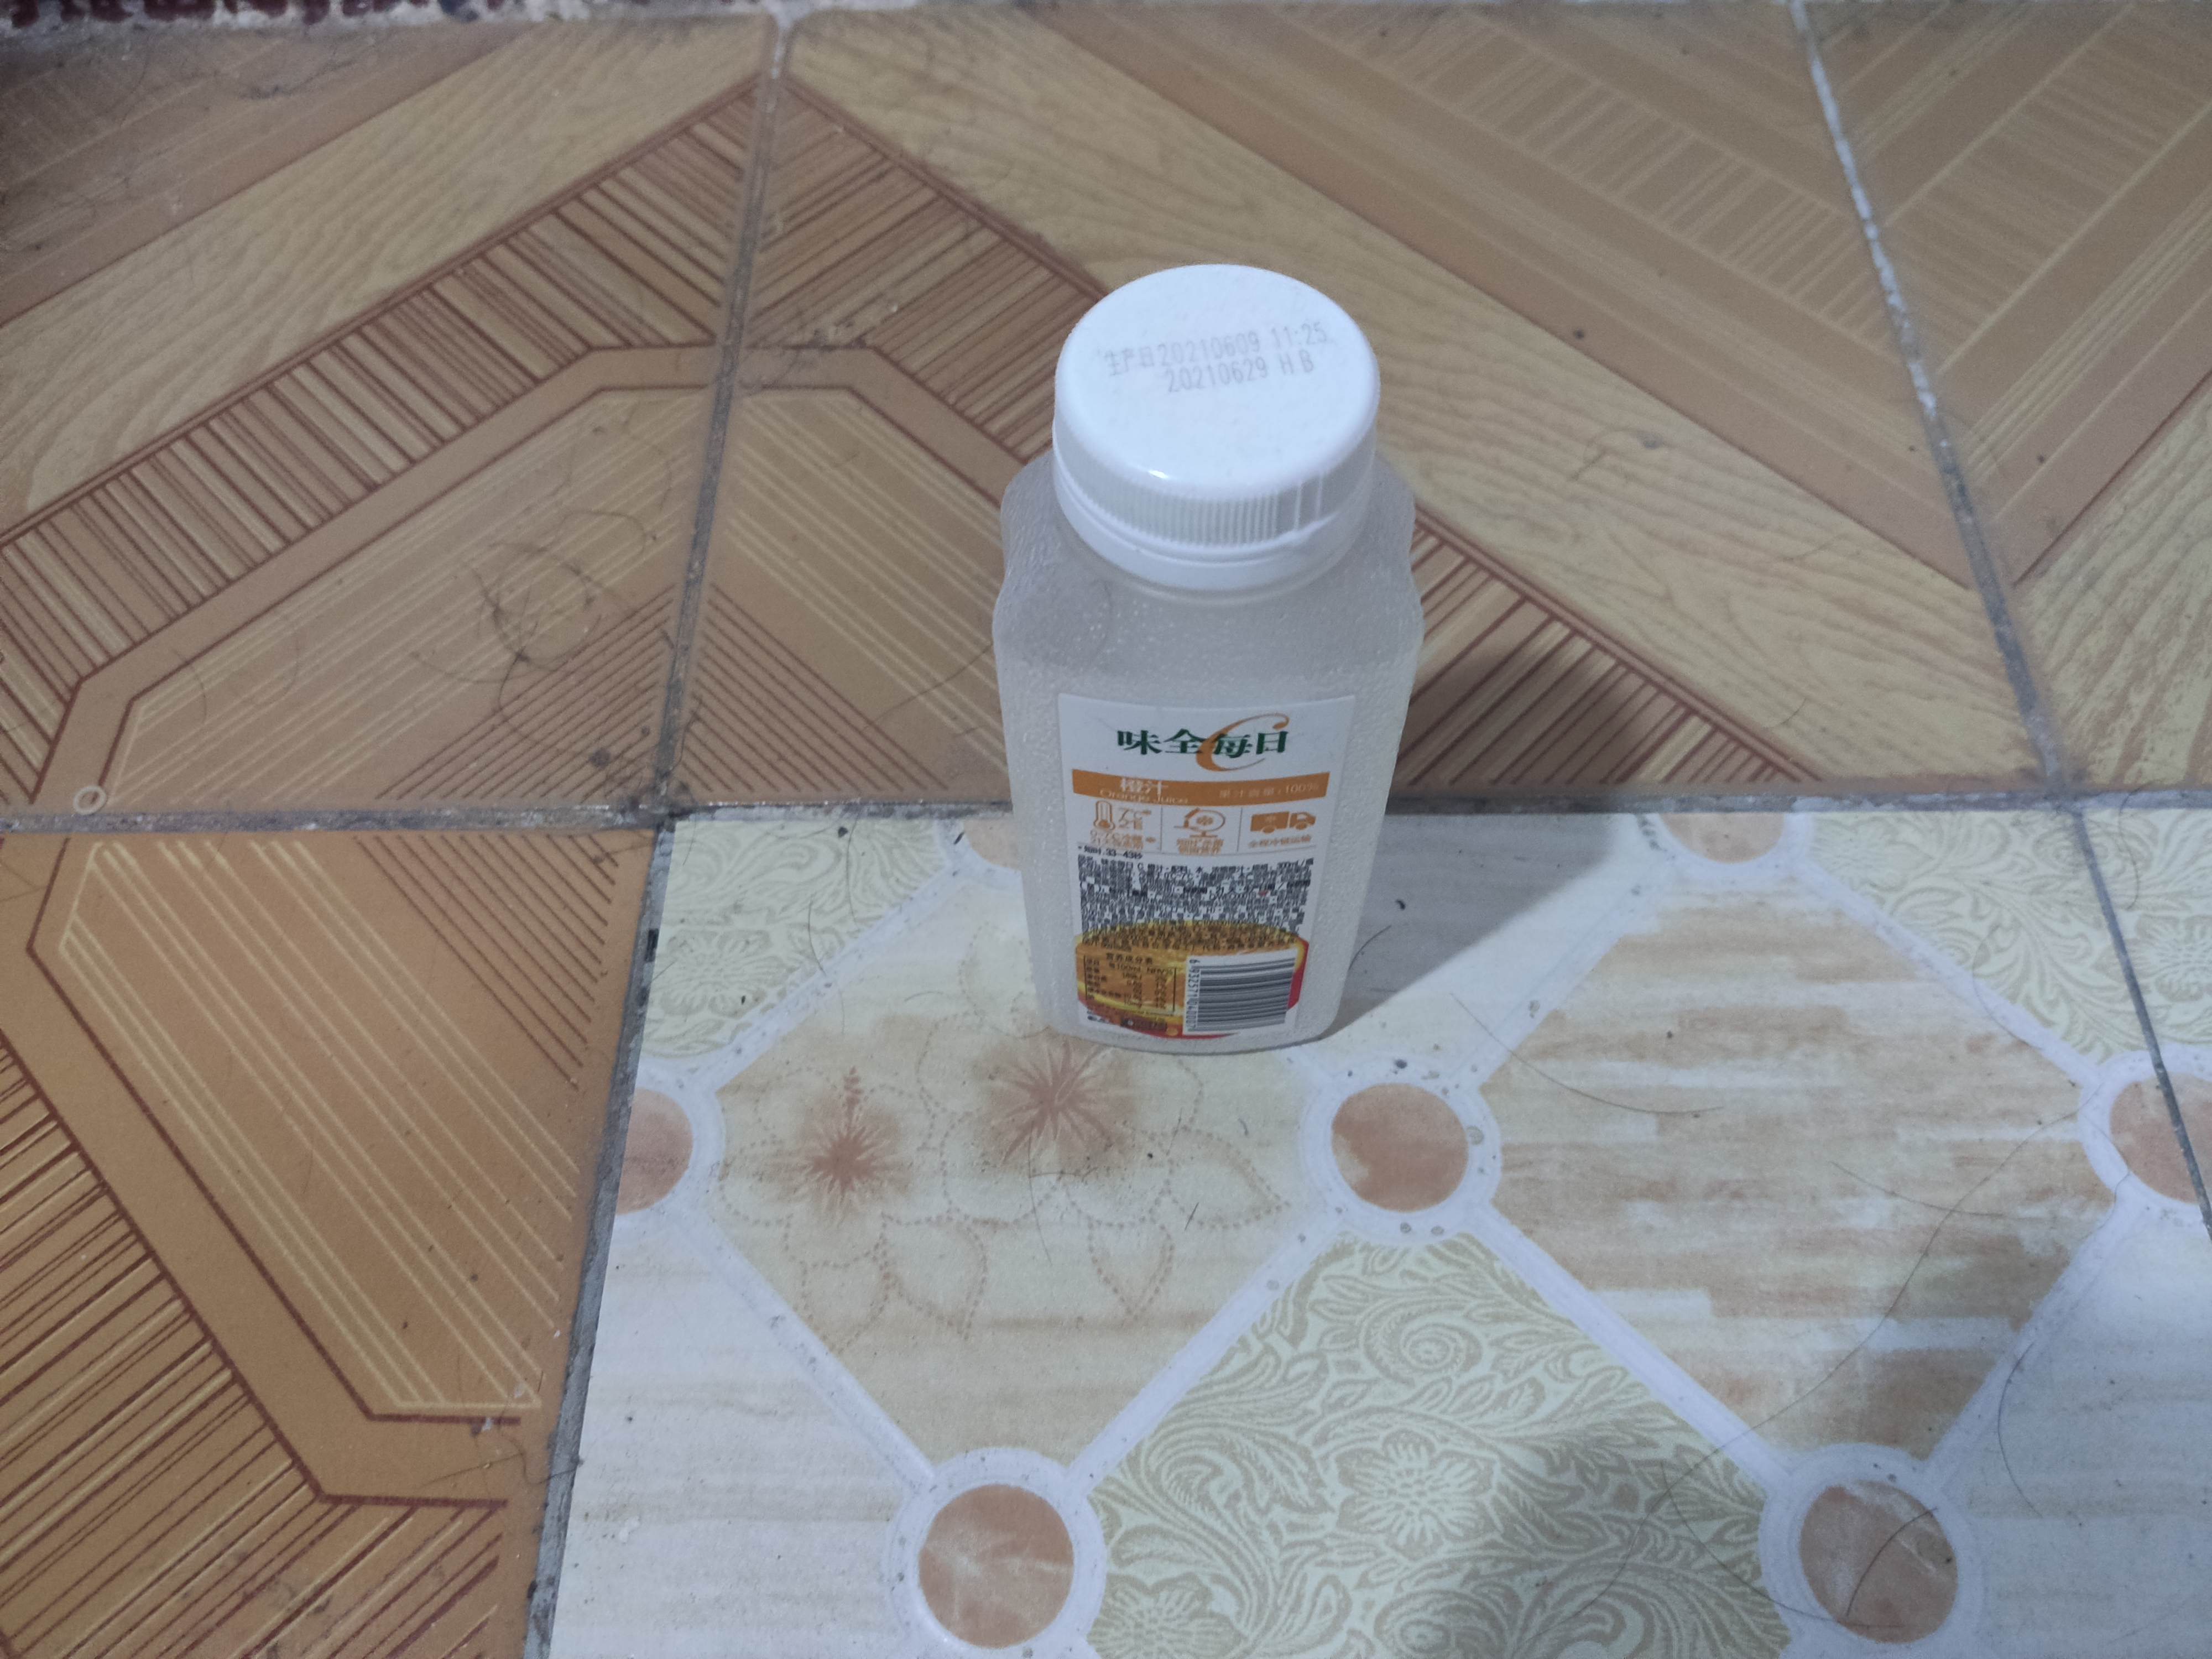Plastic Bottle: (979, 256, 1426, 1060)
